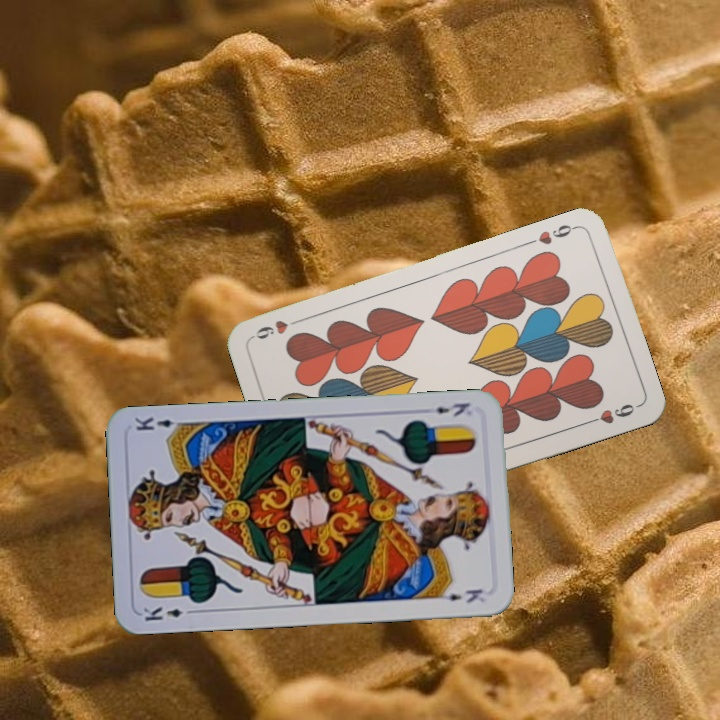EK: (139, 603, 198, 624), (431, 398, 472, 419)
H9: (534, 220, 581, 248)
